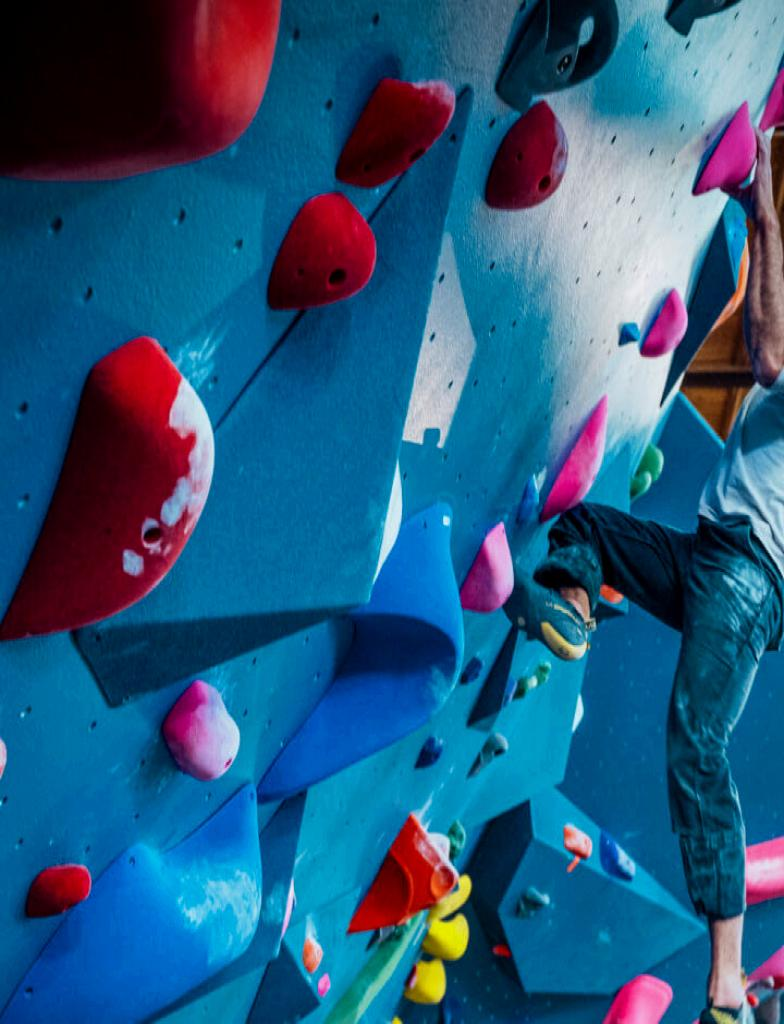jug: (0, 338, 213, 639), (336, 79, 454, 187), (268, 195, 375, 309), (486, 102, 567, 209), (25, 865, 90, 917), (515, 885, 549, 917), (630, 471, 651, 497)
ledge: (618, 323, 638, 345)
pinch: (258, 502, 463, 800), (163, 680, 238, 780), (462, 522, 513, 613)
sloper: (0, 786, 261, 1023)
volume: (75, 97, 469, 704), (467, 790, 700, 993), (172, 793, 305, 1006)
